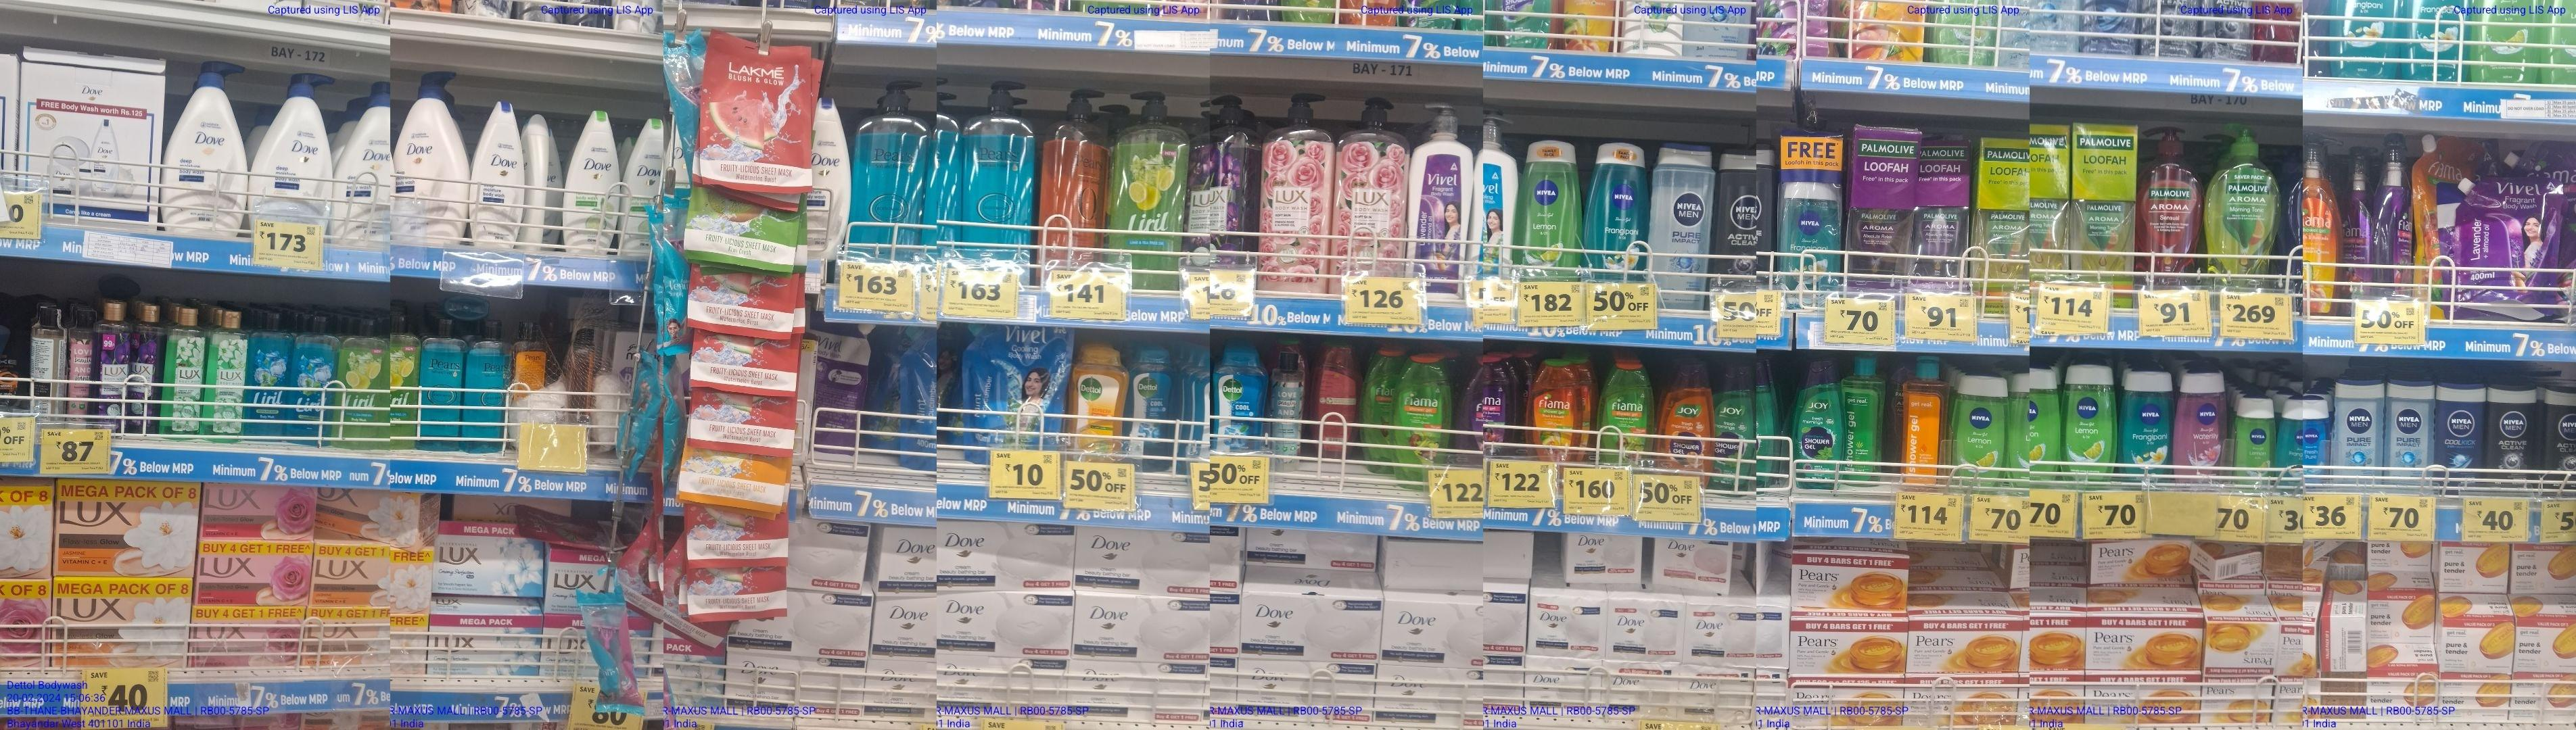Dettol_Bodywash_Cool: (1214, 340, 1268, 454), (1130, 348, 1170, 469)
Dettol_Bodywash_Refresh: (1073, 340, 1124, 459)
Dove_Deep_Moisture_Body_Wash_250ML: (470, 98, 526, 248)
Dove_Refreshing_Body_Wash_250ML: (562, 102, 618, 253)
Fiama_Shower_Gel_Lemongrass_and_Jojoba_250ML: (1391, 353, 1449, 468), (1597, 363, 1654, 463)
Fiama_Shower_Gel_Peach_and_Avocado_250ML: (1528, 356, 1582, 461)
Joy_Shower_Gel_Mandarin_and_Lemongrass_250ML: (1659, 359, 1709, 474)
Joy_Shower_Gel_Mint_and_Eucalyptus_250ML: (1791, 359, 1847, 489), (1715, 361, 1753, 495)
Liril_Cooling_Mint_Body_Wash_250ML: (291, 315, 333, 445), (248, 312, 286, 445)
Liril_Lime_and_Tea_Tree_Oil_Body_Wash_250ML: (337, 313, 386, 448)
Lux_Black_Orchid_Scent_and_Juniper_Oil_Body_Wash_245ML: (130, 305, 163, 431), (97, 299, 126, 427)
Lux_Body_Wash_Skin_Detox_Freesia_Scent_and_Alove_Vera_245ML: (207, 302, 245, 441), (168, 294, 199, 435)
Nivea_Shower_Gel_Frangipani_and_Oil_250ML: (1585, 138, 1648, 282), (2121, 369, 2172, 484)
Nivea_Shower_Gel_Lemon_and_Oil_250ML: (1518, 138, 1584, 279), (2063, 364, 2116, 484), (1955, 376, 2009, 490)
Nivea_Shower_Gel_Waterlily_and_Oil_250ML: (2173, 371, 2228, 486)
Pears_Pure_Glycerin_and_Mint_Extracts_Body_Wash_250ML: (463, 322, 506, 453), (419, 320, 458, 456)
